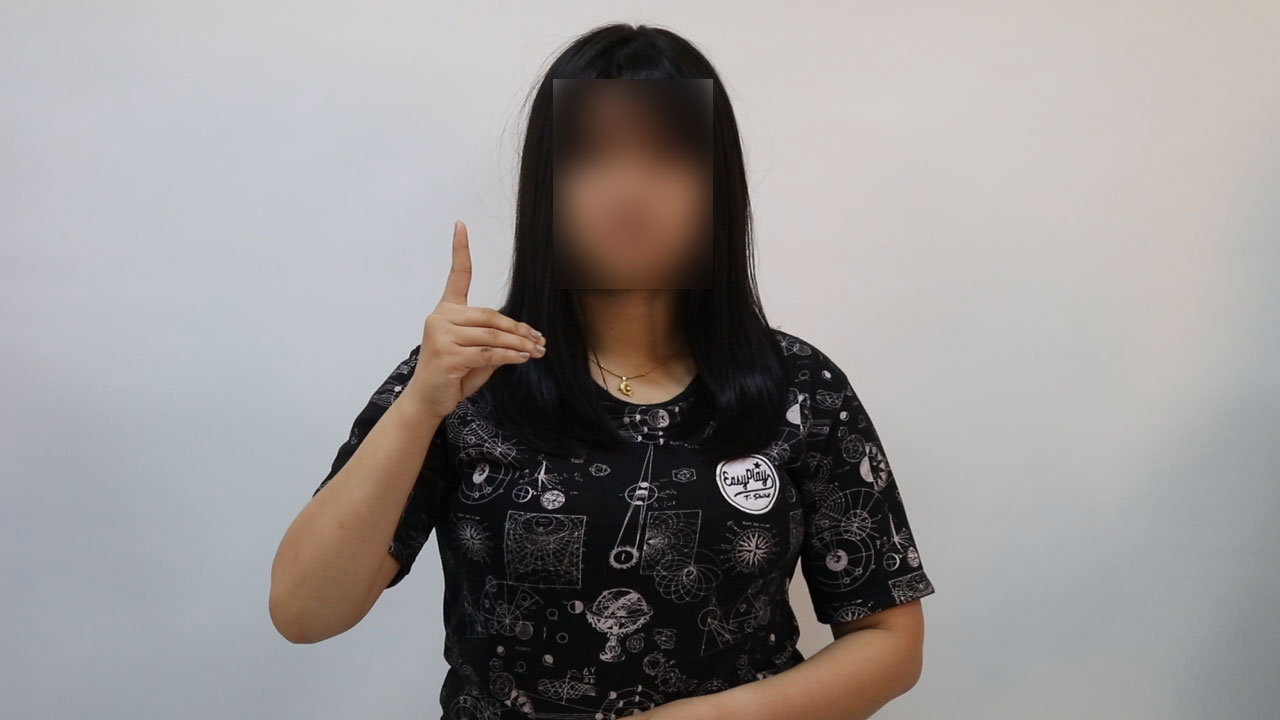dor: (383, 214, 551, 410)
